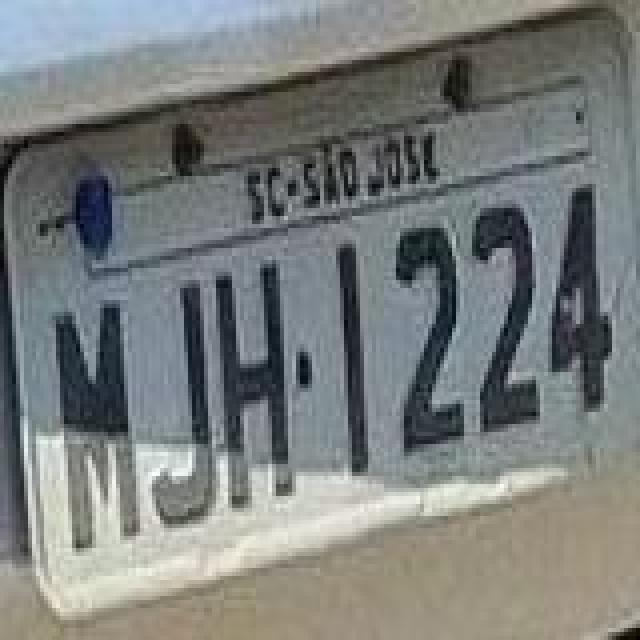1: (334, 238, 370, 482)
2: (394, 226, 470, 454), (468, 206, 540, 434)
4: (546, 186, 614, 414)
H: (216, 256, 296, 512)
J: (150, 280, 218, 528)
M: (50, 304, 142, 552)
